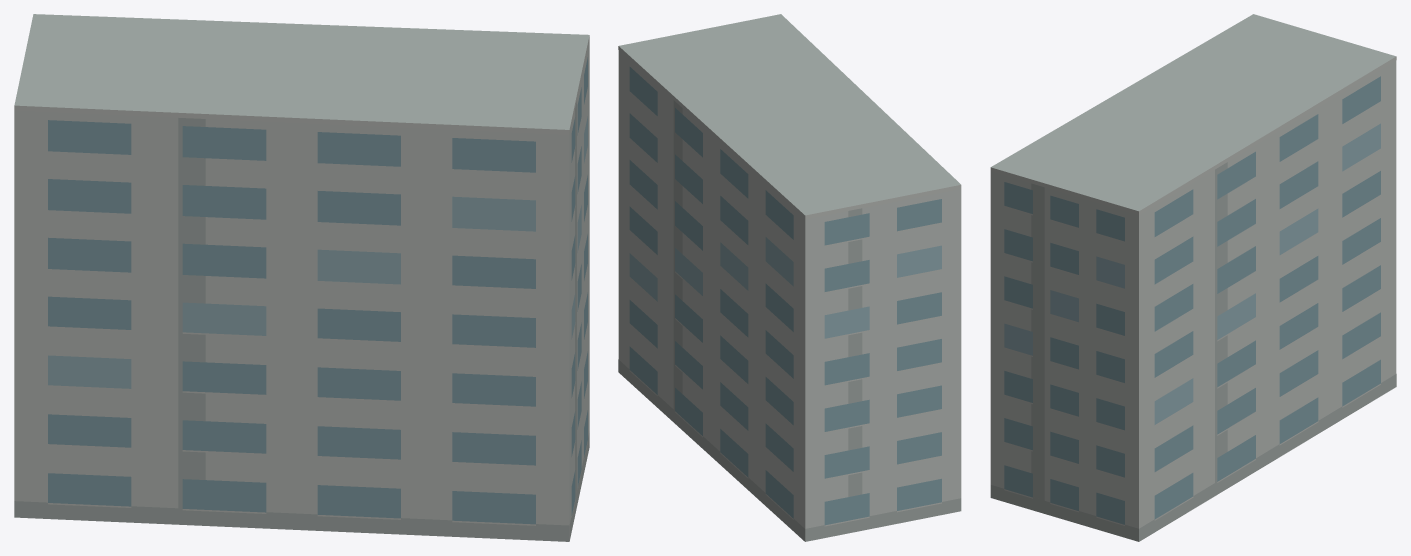
The model's file is residential-e567e622-1e56-4f73-b2e9-436794ded2b7.glb.
3 views of the same model, side by side, from view 1: azimuth 30°, elevation 25°; view 2: azimuth 150°, elevation 25°; view 3: azimuth 270°, elevation 25° (orthographic). The views are drawn at different scales.
Visible parts, largest first — view 1: residential-e567e622-1e56-4f73-b2e9-436794ded2b7.tmp; view 2: residential-e567e622-1e56-4f73-b2e9-436794ded2b7.tmp; view 3: residential-e567e622-1e56-4f73-b2e9-436794ded2b7.tmp.
Boxes of the visible parts, x1=… form: residential-e567e622-1e56-4f73-b2e9-436794ded2b7.tmp: x1=14, y1=14, x2=589, y2=541; residential-e567e622-1e56-4f73-b2e9-436794ded2b7.tmp: x1=618, y1=14, x2=961, y2=541; residential-e567e622-1e56-4f73-b2e9-436794ded2b7.tmp: x1=990, y1=14, x2=1396, y2=541.
Bounding box in the file's own units: 25.61 × 20 × 22.26.
